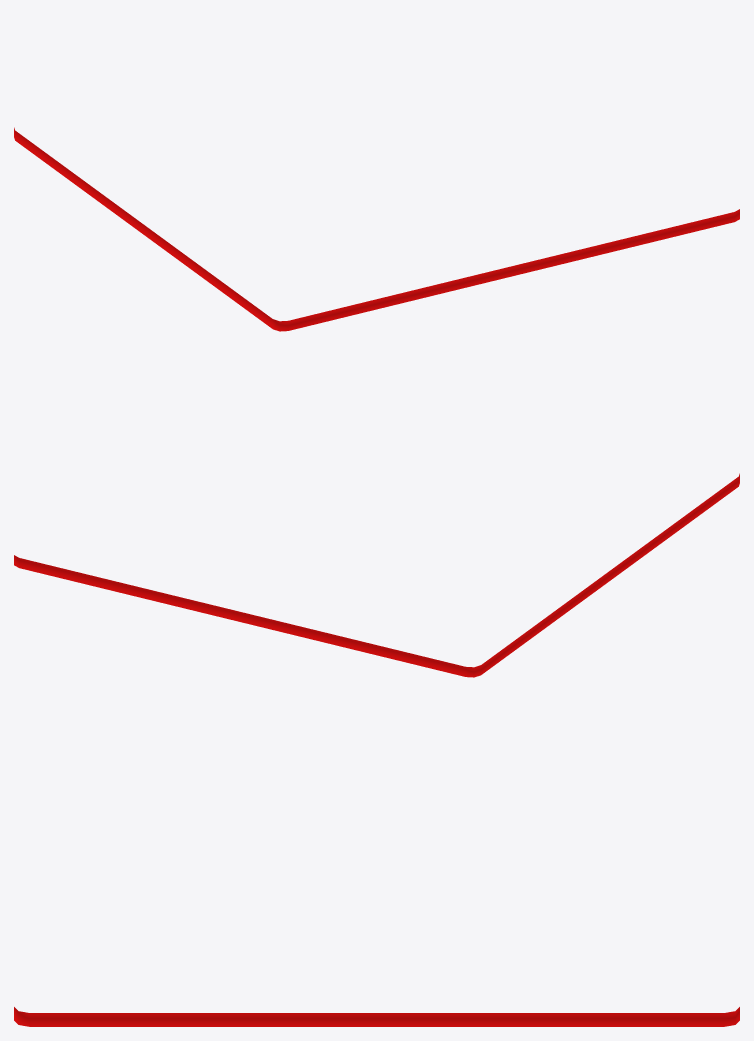
The model's file is SM_AirCon.glb.
3 views of the same model, one above another, from view 1: azimuth 30°, elevation 25°; view 2: azimuth 150°, elevation 25°; view 3: azimuth 270°, elevation 25° (orthographic). The views are drawn at different scales.
Parts seen in each view (by area): view 1: SM_AirCon_LOD0; view 2: SM_AirCon_LOD0; view 3: SM_AirCon_LOD0.
Boxes of the visible parts, <box> form: SM_AirCon_LOD0: <box>14,127,739,331</box>; SM_AirCon_LOD0: <box>14,473,739,677</box>; SM_AirCon_LOD0: <box>14,1007,739,1026</box>.
Size of the model in its own units: 0.7262 by 0.0269 by 0.7262.
